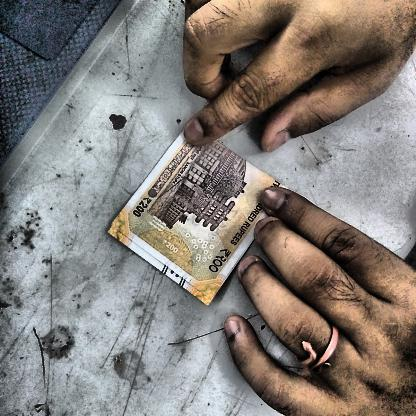Rs200: (129, 192, 156, 221)
